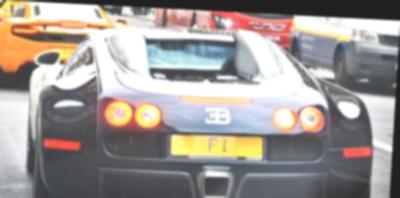License_Plate: (169, 132, 265, 157)
